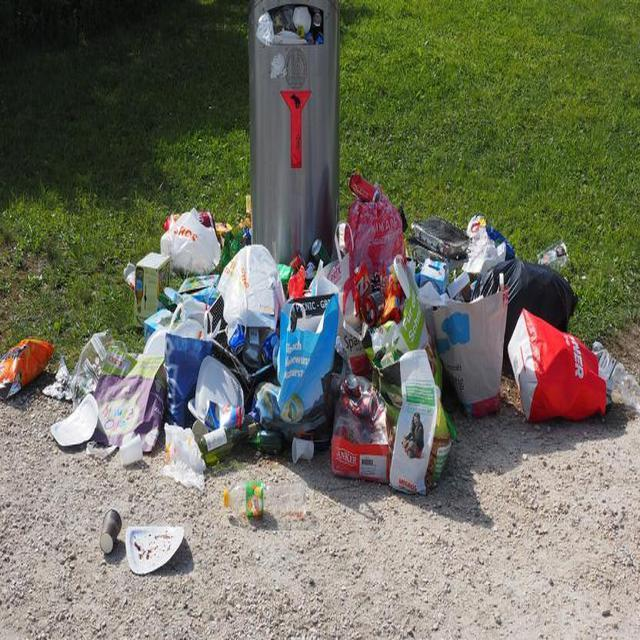garbage: (122, 172, 503, 482), (504, 168, 614, 429), (0, 328, 162, 451), (89, 504, 191, 584), (218, 478, 316, 530), (255, 4, 332, 51)
